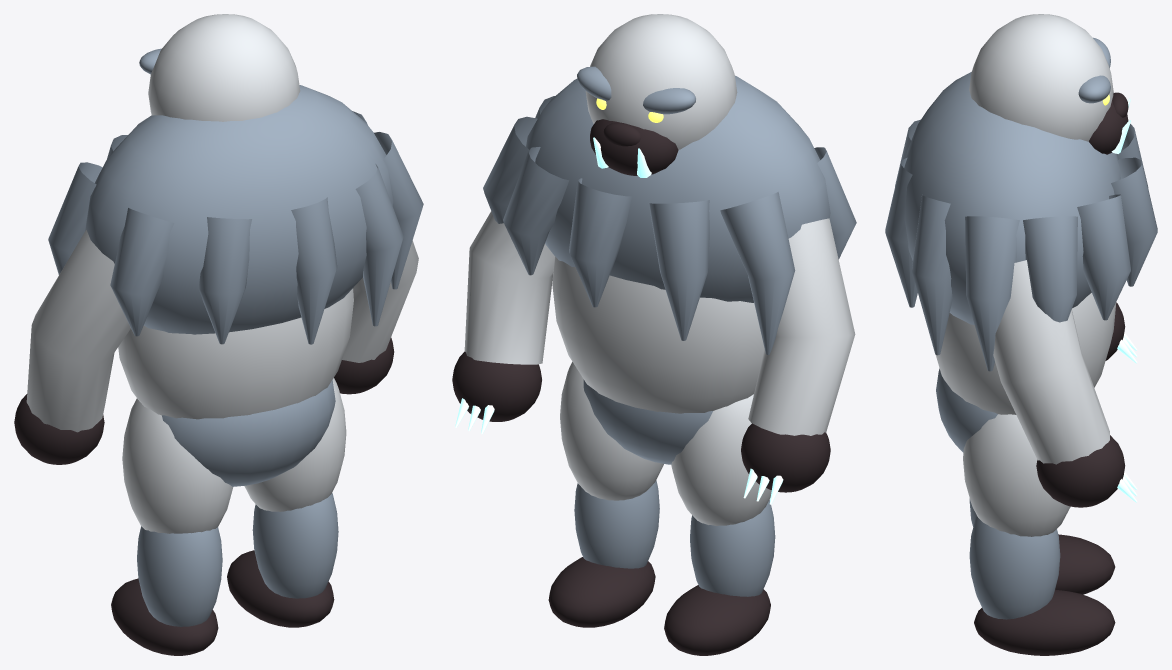
The model's file is SnowMigoi.fbx.
The picture shows the model from 3 angles, left to right: view 1: azimuth 30°, elevation 25°; view 2: azimuth 150°, elevation 25°; view 3: azimuth 270°, elevation 25°; orthographic projection.
Parts seen in each view (by area): view 1: SnowMigoi; view 2: SnowMigoi; view 3: SnowMigoi.
Part boxes in pixels (x1=…): SnowMigoi: x1=14, y1=14, x2=423, y2=655; SnowMigoi: x1=452, y1=14, x2=856, y2=655; SnowMigoi: x1=885, y1=14, x2=1157, y2=655.
Bounding box in the file's own units: 130 × 82.67 × 202.
